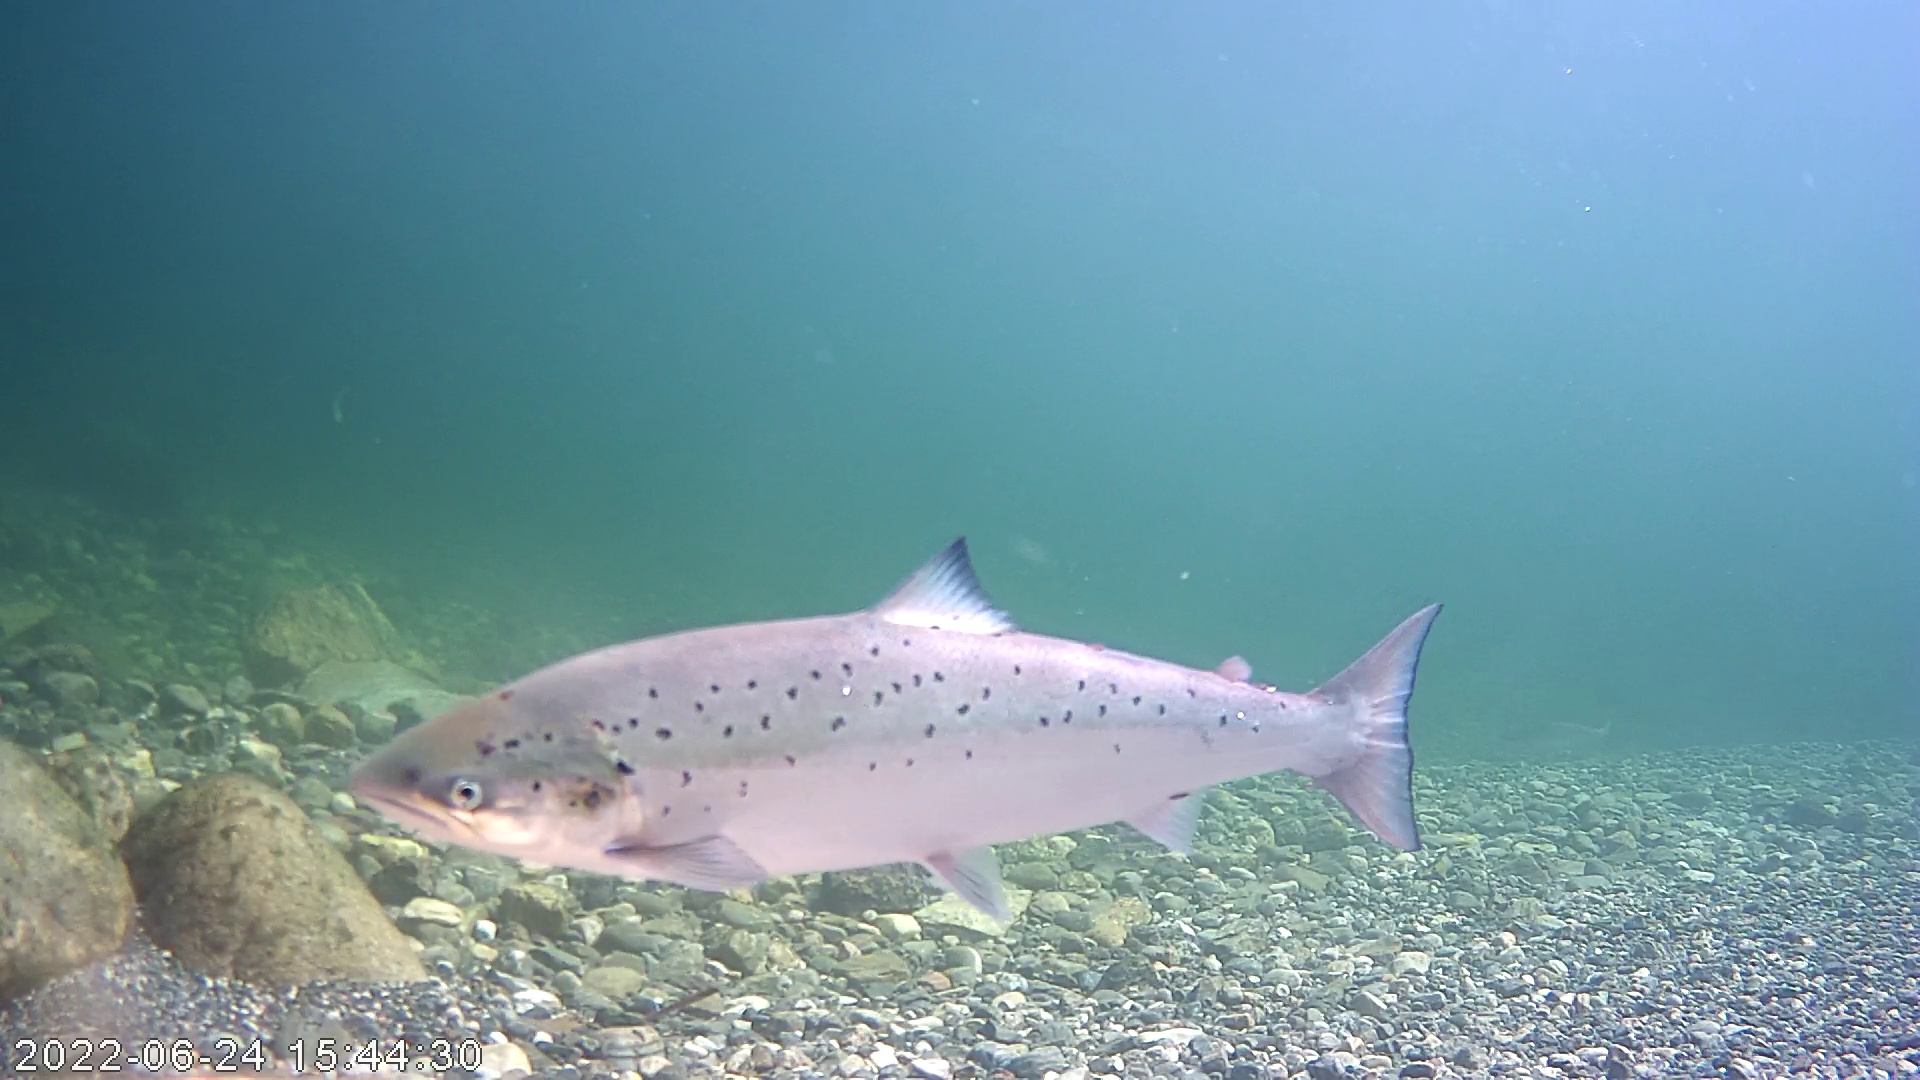salmon: (345, 535, 1445, 924)
